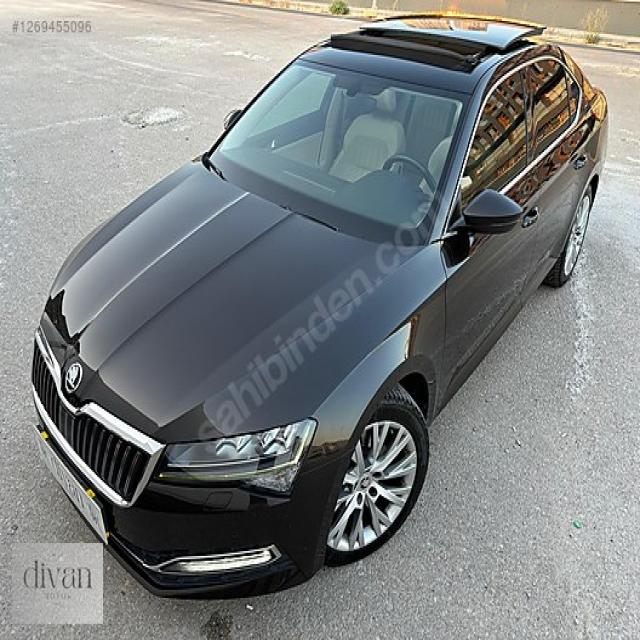skoda: (61, 360, 84, 394)
